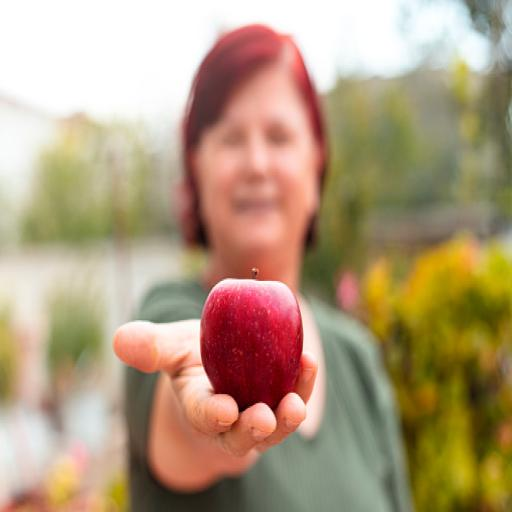apple: (201, 269, 302, 410)
